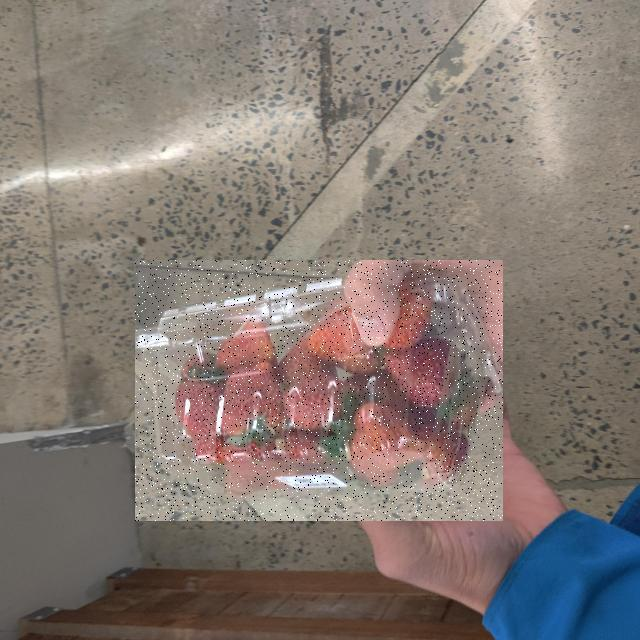Straw Berry: (135, 260, 503, 521)
